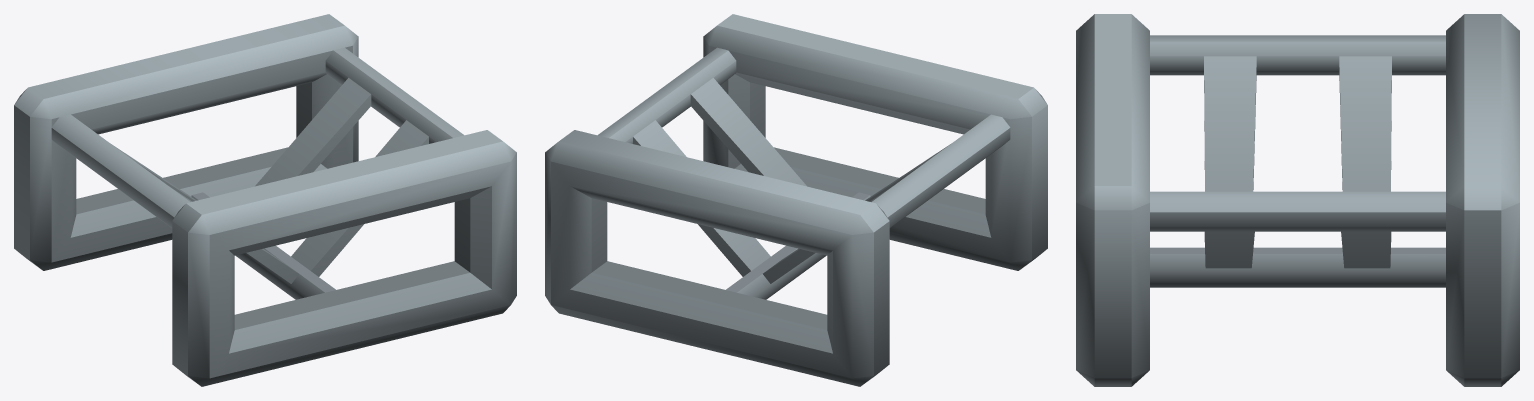
The model's file is Dishrack.glb.
The picture shows the model from 3 angles, left to right: view 1: azimuth 30°, elevation 25°; view 2: azimuth 150°, elevation 25°; view 3: azimuth 270°, elevation 25°; orthographic projection. The views are drawn at different scales.
Visible parts, largest first — view 1: dishrack; view 2: dishrack; view 3: dishrack.
Boxes of the visible parts, x1,y1,x2,y2 form: dishrack: (14,14,516,386); dishrack: (545,14,1047,386); dishrack: (1076,14,1519,386).
Bounding box in the file's own units: 1.2 × 0.6 × 1.2.
Materials: 1 (1 with a texture image).
